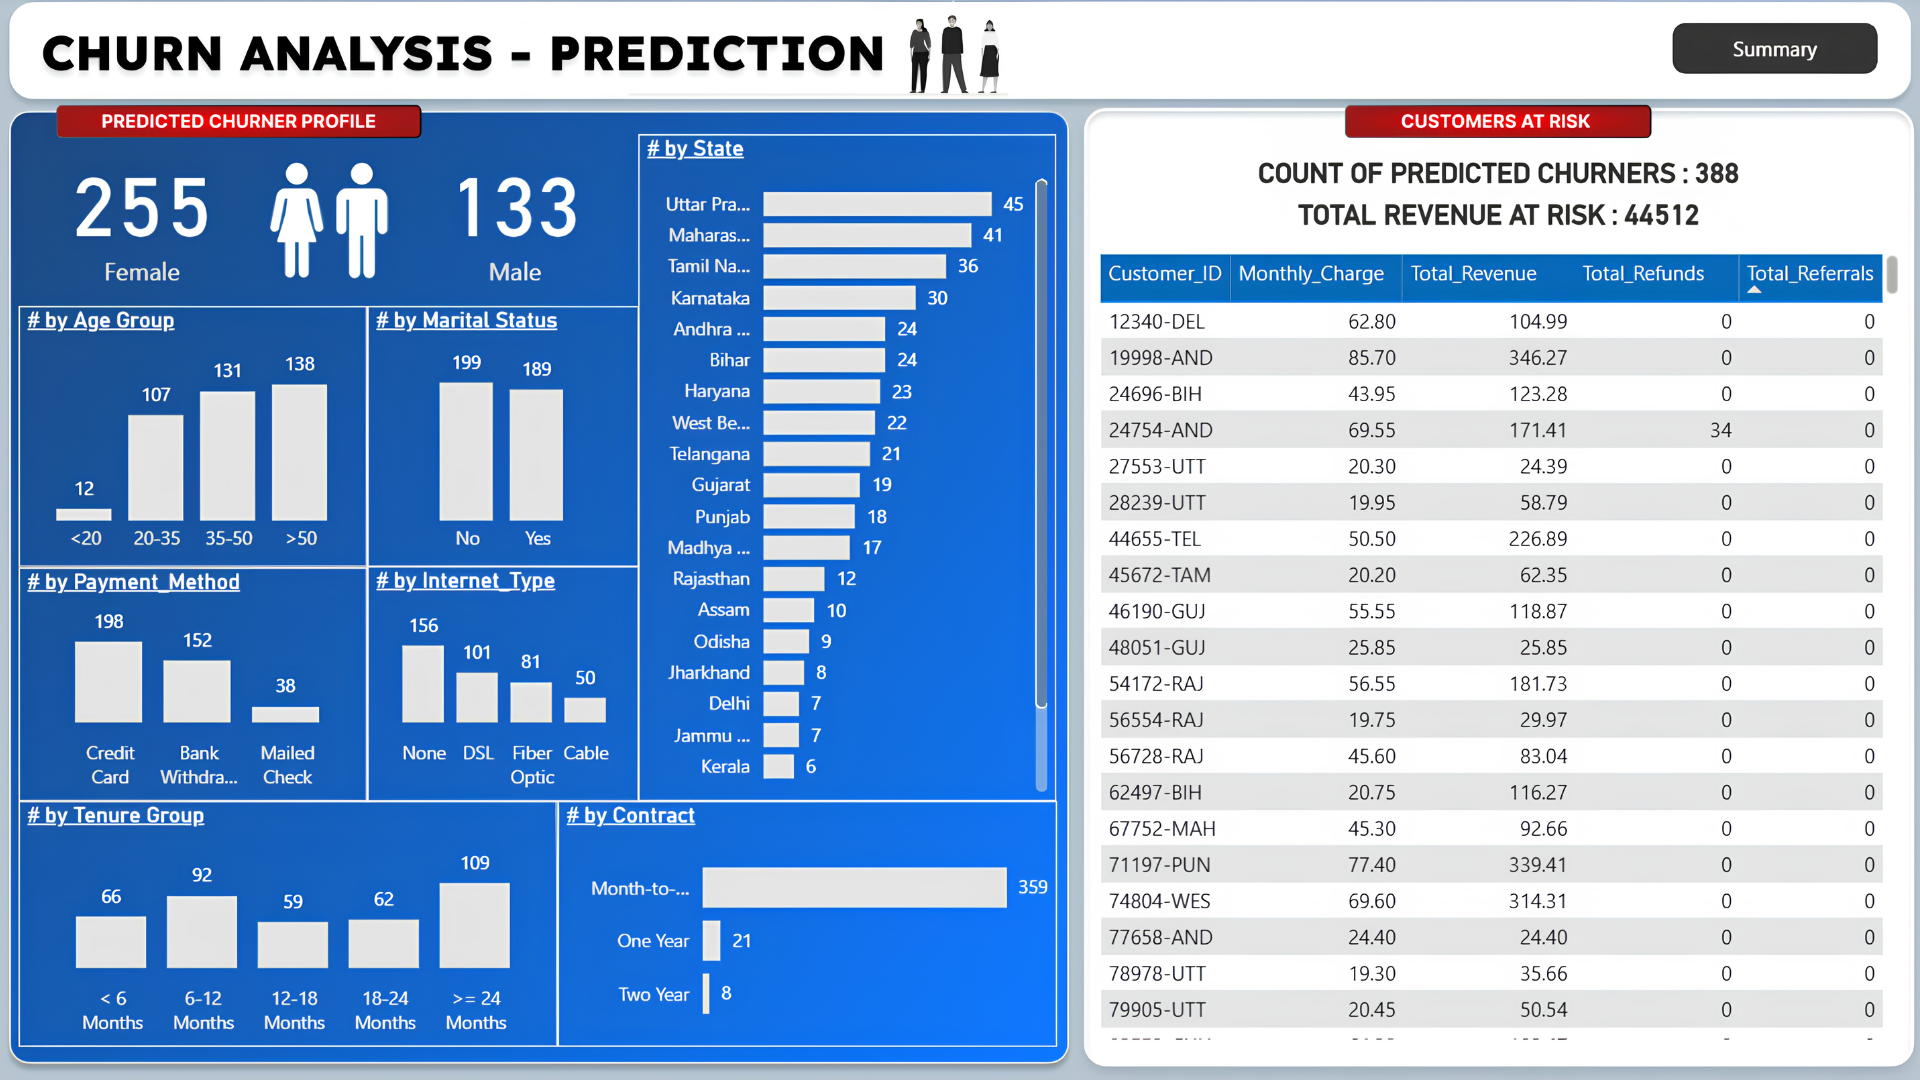

Layout of this report page (visuals, bound fields, positions):
{"tool":"powerbi","page":{"name":"Predictions","canvas":[1280,720],"ordinal":1},"visuals":[{"type":"tableEx","fields":{"Values":["high_risk_churn_list.Customer_ID","high_risk_churn_list.Monthly_Charge","high_risk_churn_list.Total_Revenue","high_risk_churn_list.Total_Refunds","high_risk_churn_list.Number_of_Referrals"]},"box":[727.1,166.2,539.6,529.8],"z":0},{"type":"card","fields":{"Values":["tbl_Measures.Title Predicted Churner"]},"box":[813.3,104,367.1,27.6],"z":1000},{"type":"card","fields":{"Values":["tbl_Measures.Count Predicted Churners"]},"box":[16,82.7,163.6,122.7],"z":2000},{"type":"card","fields":{"Values":["tbl_Measures.Count Predicted Churners"]},"box":[263.1,81.8,163.6,123.6],"z":3000},{"type":"clusteredColumnChart","fields":{"Category":["mapping_AgeGrp.Age Group"],"Y":["CountNonNull(high_risk_churn_list.Customer_ID)"]},"box":[16,205.3,231.1,173.3],"z":4000},{"type":"clusteredColumnChart","fields":{"Y":["CountNonNull(high_risk_churn_list.Customer_ID)"],"Category":["high_risk_churn_list.Married"]},"box":[247.1,205.3,179.6,173.3],"z":5000},{"type":"clusteredColumnChart","fields":{"Y":["CountNonNull(high_risk_churn_list.Customer_ID)"],"Category":["mapping_TenureGrp.Tenure Group"]},"box":[16,533.3,357.3,162.7],"z":6000},{"type":"clusteredColumnChart","fields":{"Y":["CountNonNull(high_risk_churn_list.Customer_ID)"],"Category":["high_risk_churn_list.Payment_Method"]},"box":[16,378.7,231.1,154.7],"z":7000},{"type":"clusteredBarChart","fields":{"Category":["high_risk_churn_list.Contract"],"Y":["CountNonNull(high_risk_churn_list.Customer_ID)"]},"box":[373.3,533.3,330.7,162.7],"z":8000},{"type":"clusteredBarChart","fields":{"Category":["high_risk_churn_list.State"],"Y":["CountNonNull(high_risk_churn_list.Customer_ID)"]},"box":[426.7,91.6,277.3,441.8],"z":9000},{"type":"shape","box":[1112,17.8,136,33.8],"z":10000},{"type":"image","box":[168,91.6,106.7,113.8],"z":11000},{"type":"clusteredColumnChart","fields":{"Category":["high_risk_churn_list.Internet_Type"],"Y":["Sum(high_risk_churn_list.Churn_Prediction)"]},"box":[247.1,377.8,179.6,155.6],"z":12000},{"type":"card","fields":{"Values":["tbl_Measures.Title Predicted Rev"]},"box":[813.3,131.6,367.1,27.6],"z":13000}]}

Visuals, with their boxes in screenshot pixels (x1, y1, x2, y2), scaled from the page's 1280x720 canvas onto the 1920x1080 screenshot:
tableEx - high_risk_churn_list.Customer_ID x high_risk_churn_list.Monthly_Charge: bbox=[1091, 249, 1900, 1044]
card - tbl_Measures.Title Predicted Churner: bbox=[1220, 156, 1771, 197]
card - tbl_Measures.Count Predicted Churners: bbox=[24, 124, 269, 308]
card - tbl_Measures.Count Predicted Churners: bbox=[395, 123, 640, 308]
clusteredColumnChart - mapping_AgeGrp.Age Group x CountNonNull(high_risk_churn_list.Customer_ID): bbox=[24, 308, 371, 568]
clusteredColumnChart - CountNonNull(high_risk_churn_list.Customer_ID) x high_risk_churn_list.Married: bbox=[371, 308, 640, 568]
clusteredColumnChart - CountNonNull(high_risk_churn_list.Customer_ID) x mapping_TenureGrp.Tenure Group: bbox=[24, 800, 560, 1044]
clusteredColumnChart - CountNonNull(high_risk_churn_list.Customer_ID) x high_risk_churn_list.Payment_Method: bbox=[24, 568, 371, 800]
clusteredBarChart - high_risk_churn_list.Contract x CountNonNull(high_risk_churn_list.Customer_ID): bbox=[560, 800, 1056, 1044]
clusteredBarChart - high_risk_churn_list.State x CountNonNull(high_risk_churn_list.Customer_ID): bbox=[640, 137, 1056, 800]
shape: bbox=[1668, 27, 1872, 77]
image: bbox=[252, 137, 412, 308]
clusteredColumnChart - high_risk_churn_list.Internet_Type x Sum(high_risk_churn_list.Churn_Prediction): bbox=[371, 567, 640, 800]
card - tbl_Measures.Title Predicted Rev: bbox=[1220, 197, 1771, 239]
